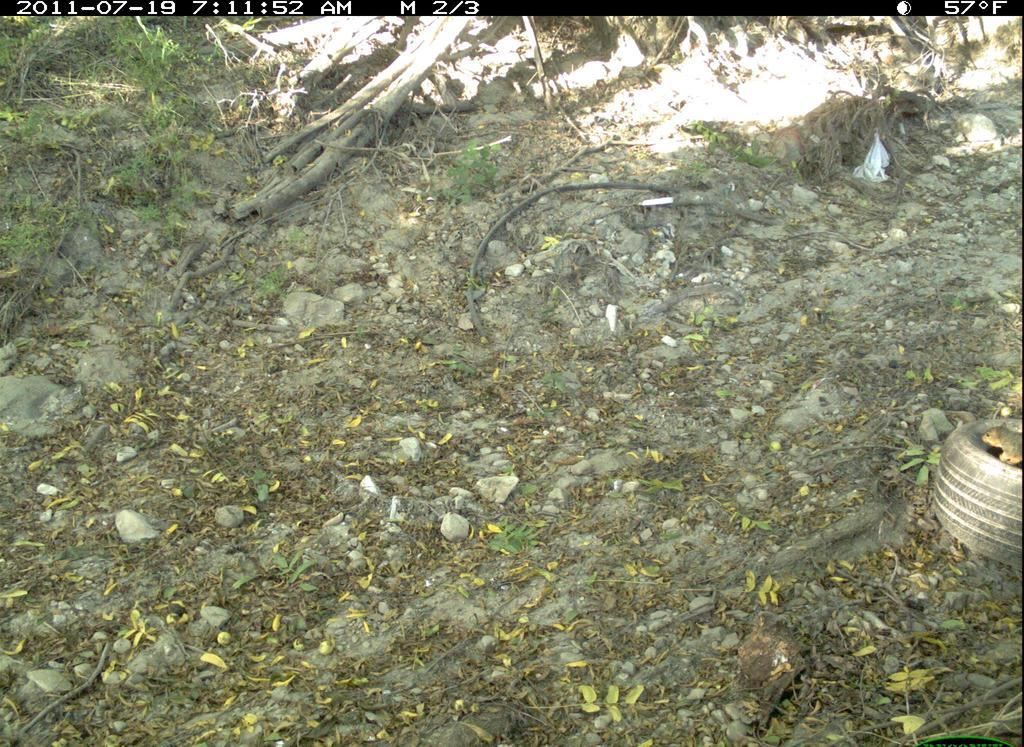squirrel: (980, 419, 1024, 471)
